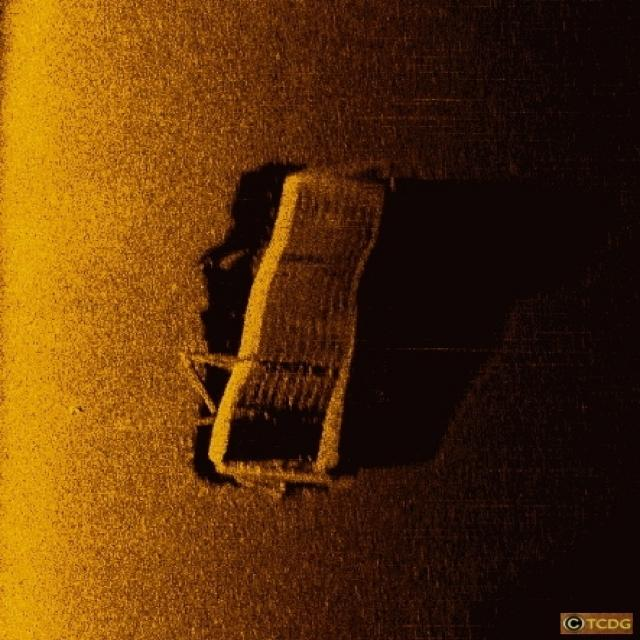ship: (194, 158, 387, 488)
